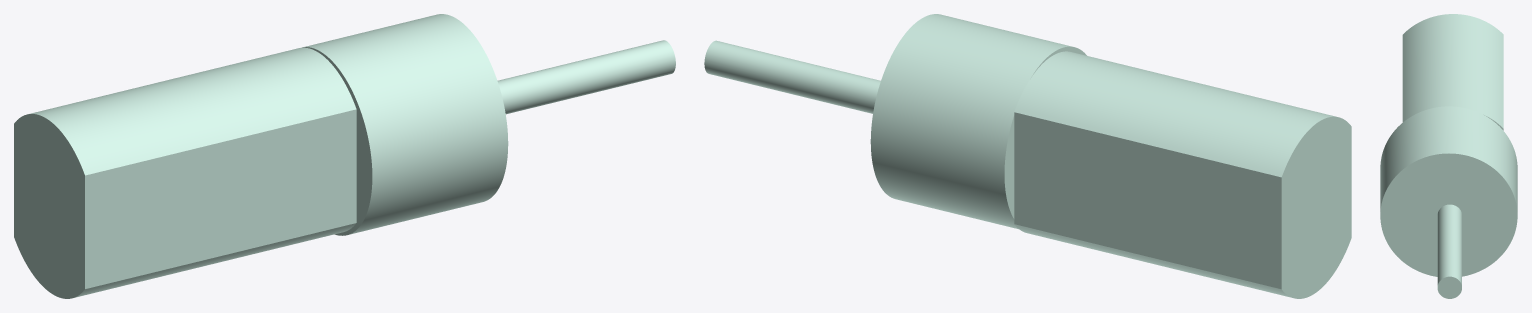
3 renders of one model, left to right at view 1: azimuth 30°, elevation 25°; view 2: azimuth 150°, elevation 25°; view 3: azimuth 270°, elevation 25°, orthographic. The views are drawn at different scales.
Parts seen in each view (by area): view 1: Renderer Node; view 2: Renderer Node; view 3: Renderer Node.
Boxes of the visible parts, <box> form: Renderer Node: <box>14,14,675,298</box>; Renderer Node: <box>704,14,1351,298</box>; Renderer Node: <box>1380,14,1517,298</box>.
Size of the model in its own units: 1.13 by 0.3079 by 0.3079.
